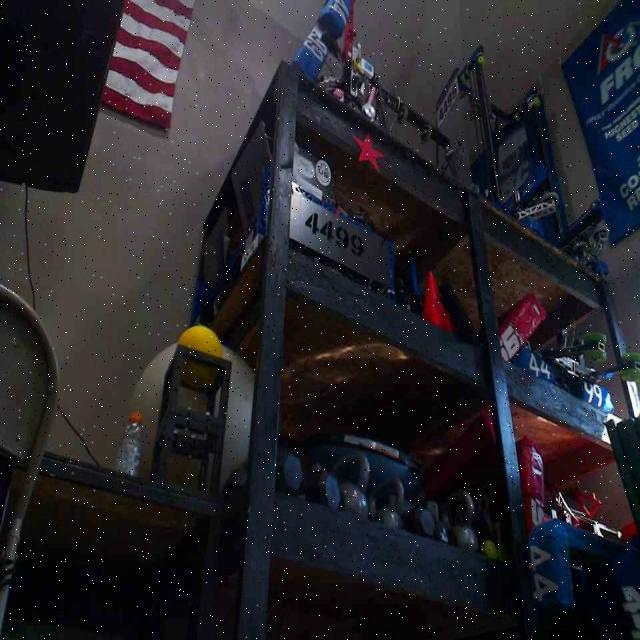star_red: (351, 130, 384, 172)
